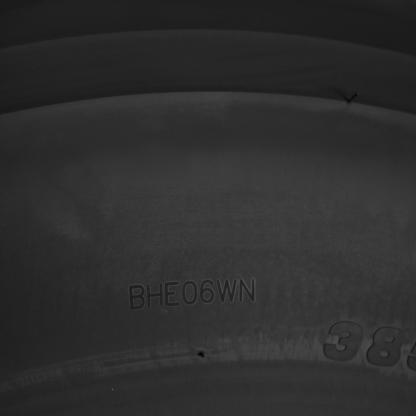ocr: (126, 275, 257, 316)
